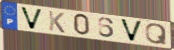0: (72, 13, 91, 38)
6: (97, 17, 116, 39)
K: (47, 10, 66, 34)
Q: (145, 22, 168, 46)
V: (19, 6, 45, 32), (119, 18, 145, 43)
